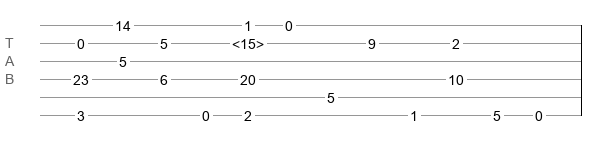0: (77, 36, 85, 46), (202, 108, 210, 118), (285, 18, 293, 28), (535, 108, 543, 118)
1: (244, 18, 252, 28), (410, 108, 418, 118)
10: (448, 72, 464, 82)
14: (115, 18, 131, 28)
2: (244, 108, 252, 118), (452, 36, 460, 46)
20: (240, 72, 256, 82)
23: (73, 72, 89, 82)
3: (77, 108, 85, 118)
5: (119, 54, 127, 64), (160, 36, 168, 46), (327, 90, 335, 100), (493, 108, 501, 118)
6: (160, 72, 168, 82)
9: (368, 36, 376, 46)
harmonic: (232, 36, 264, 46)
